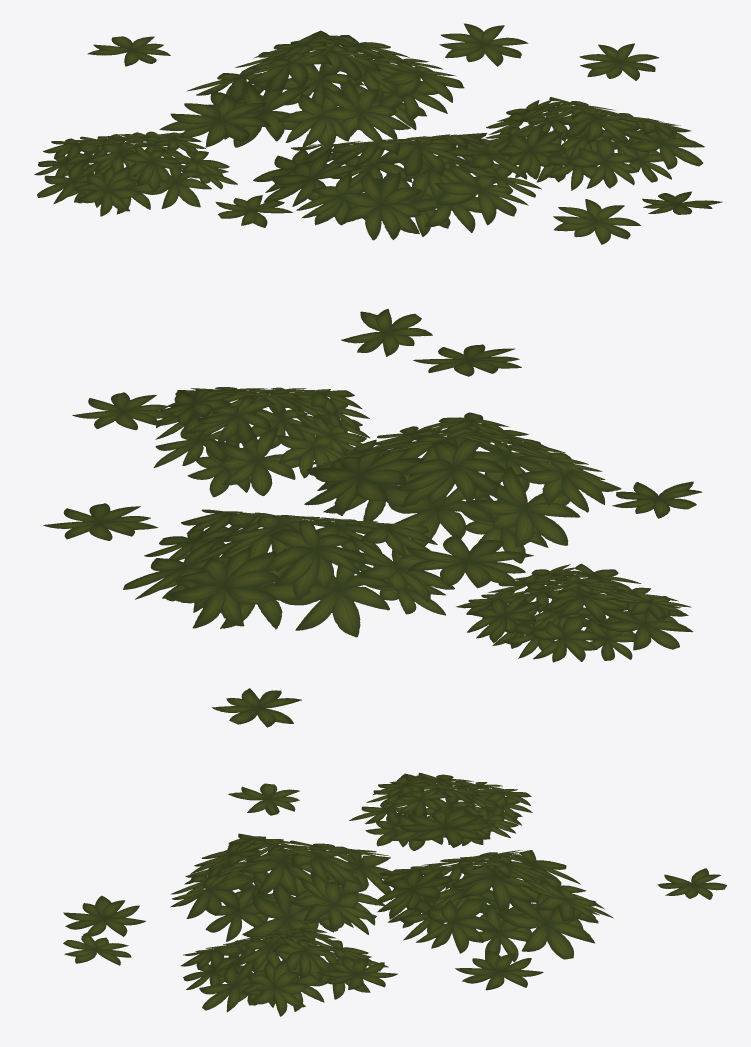
Rendered from Grass_Detail_02.fbx.
The picture shows the model from 3 angles, top to bottom: view 1: azimuth 30°, elevation 25°; view 2: azimuth 150°, elevation 25°; view 3: azimuth 270°, elevation 25°; orthographic projection. The views are drawn at different scales.
Parts seen in each view (by area): view 1: Grass_Detail_02; view 2: Grass_Detail_02; view 3: Grass_Detail_02.
Part boxes in pixels (bbox=[...]): Grass_Detail_02: bbox=[34, 23, 722, 244]; Grass_Detail_02: bbox=[43, 309, 702, 727]; Grass_Detail_02: bbox=[63, 773, 726, 1016].
Size of the model in its own units: 5.99 by 1.05 by 6.65.
Materials: 1 (1 with a texture image).
